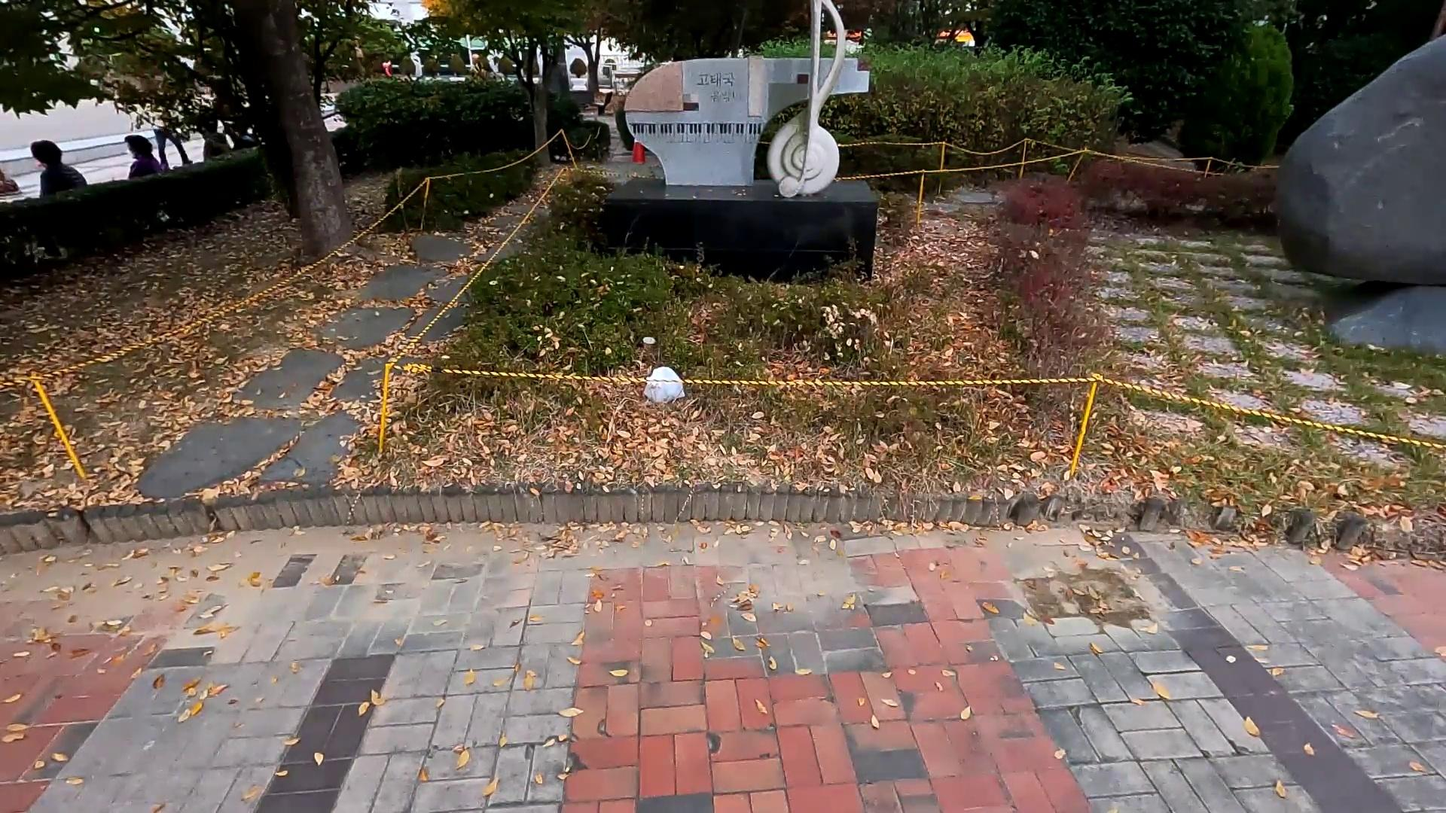person: (29, 138, 88, 198), (122, 133, 168, 182)
trash: (643, 363, 687, 406)
